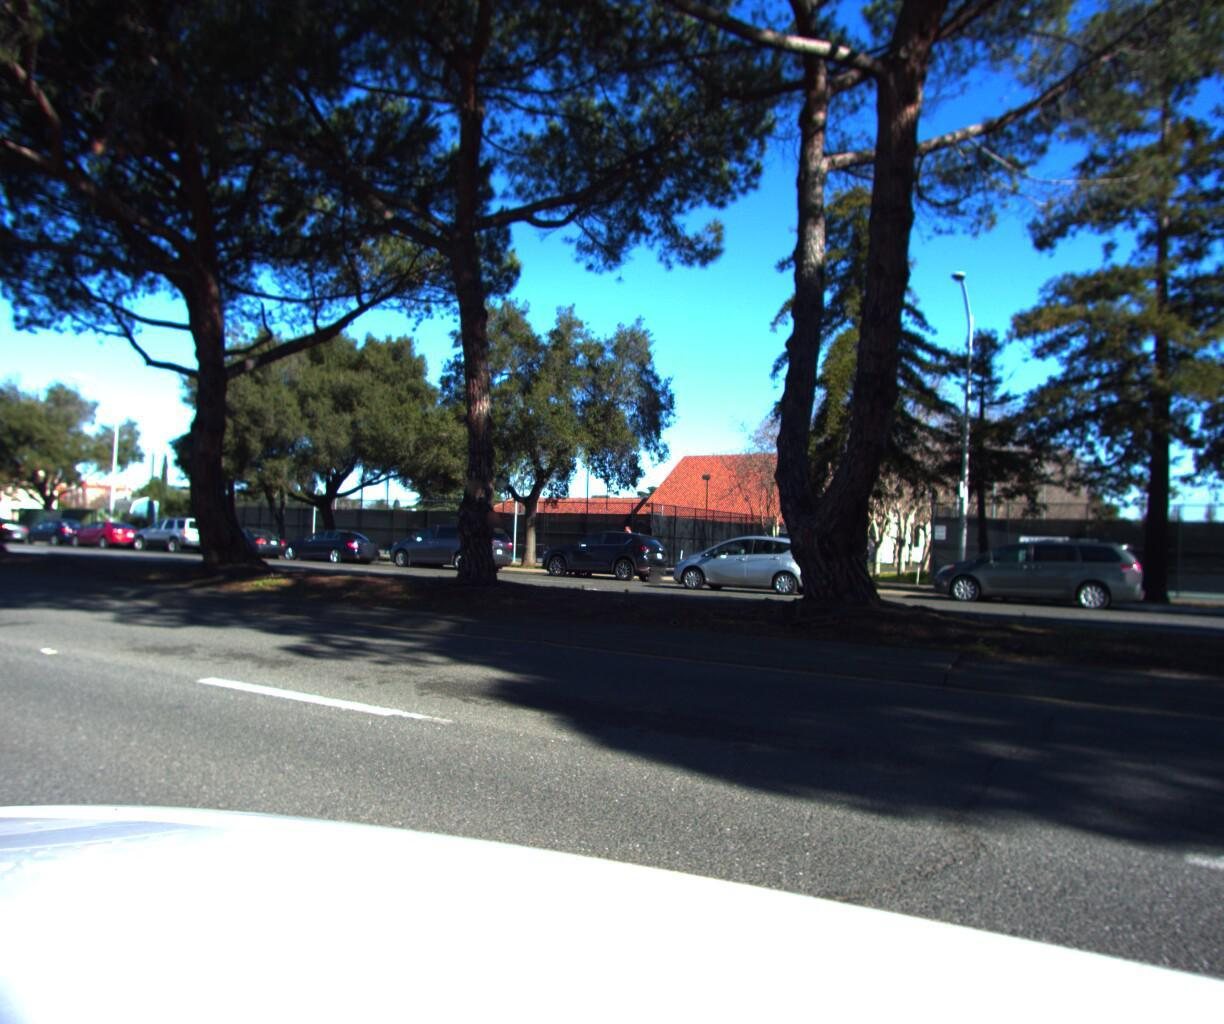car: (928, 530, 1145, 613), (663, 528, 824, 598), (535, 526, 673, 584), (385, 519, 516, 575), (276, 525, 385, 566), (195, 524, 292, 562), (129, 516, 220, 554), (65, 519, 148, 556), (20, 521, 102, 554)
